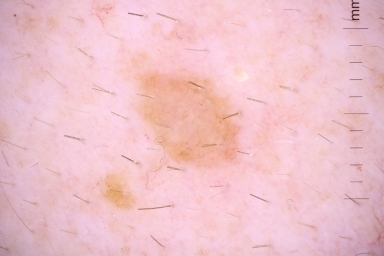melanoma: (139, 70, 237, 164)
